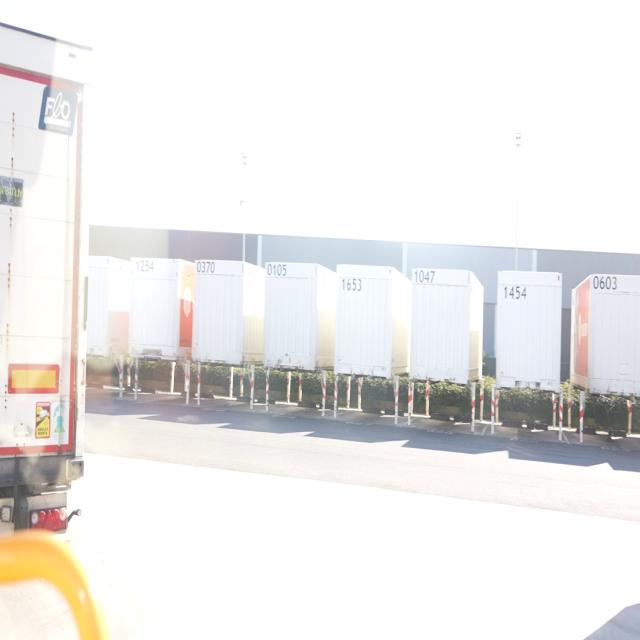Code: (588, 270, 620, 295), (503, 282, 530, 308), (339, 274, 367, 299), (194, 254, 218, 281), (134, 255, 160, 278), (411, 264, 437, 287), (264, 260, 290, 281)
